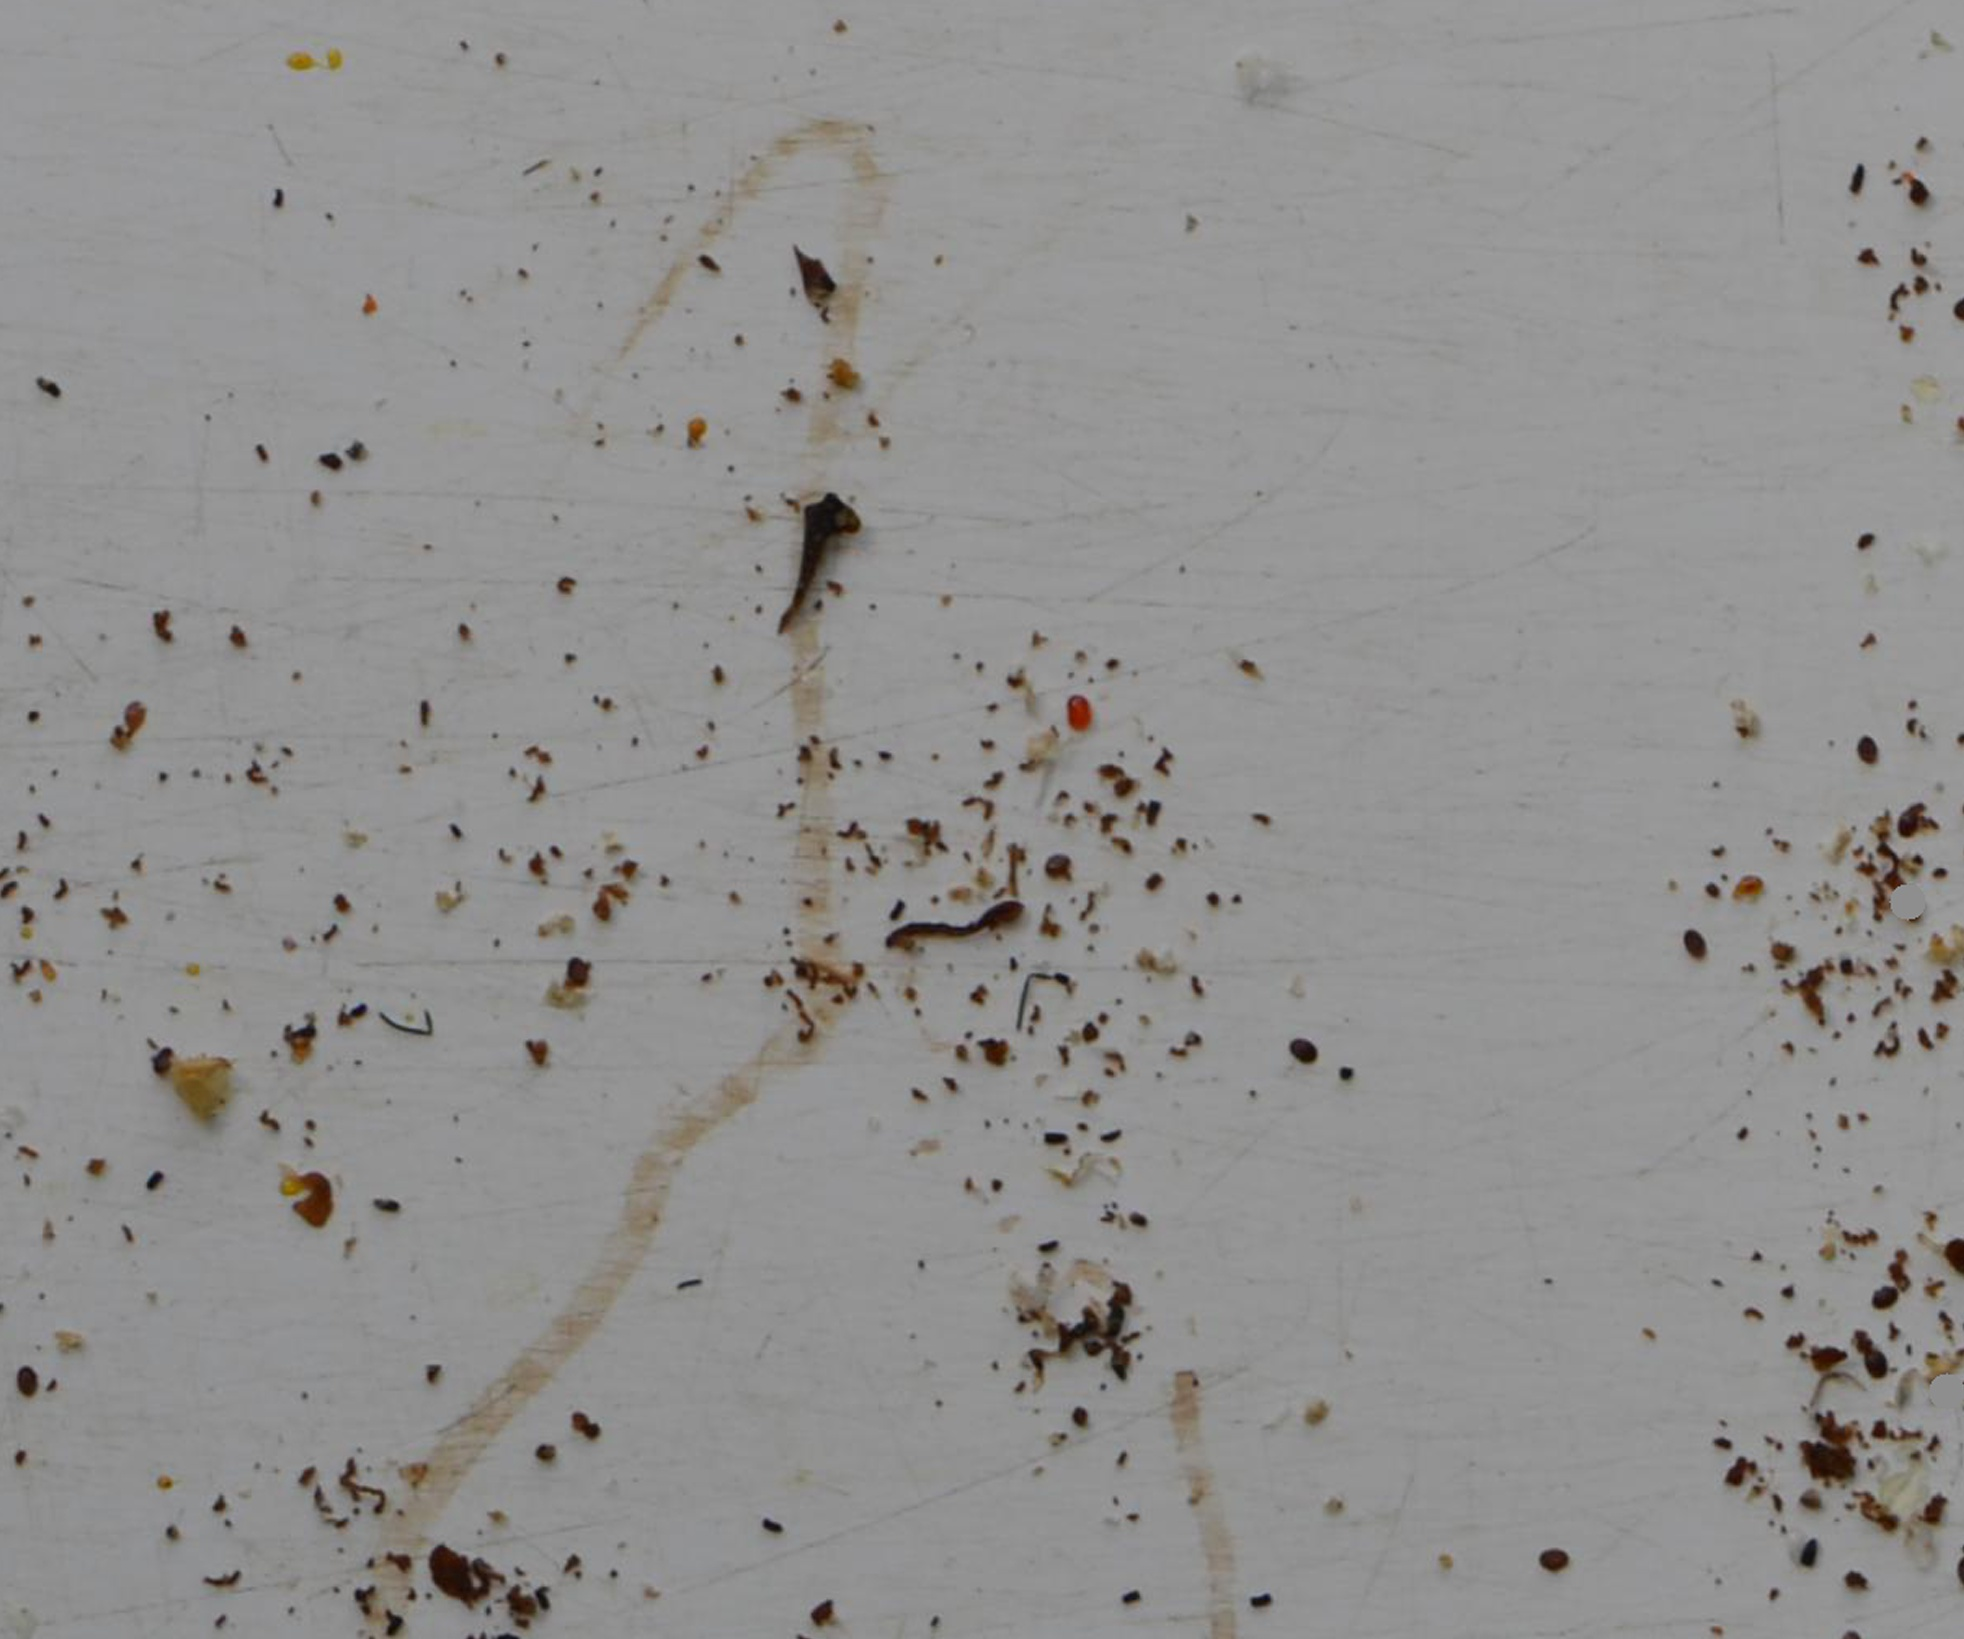Varroa: (1675, 920, 1710, 967), (1851, 1342, 1887, 1385), (1892, 807, 1928, 846), (1851, 732, 1887, 770), (1287, 1031, 1323, 1067), (13, 1363, 47, 1399), (1869, 1275, 1904, 1310), (1538, 1543, 1571, 1579), (1041, 856, 1072, 889), (150, 1045, 179, 1078)
